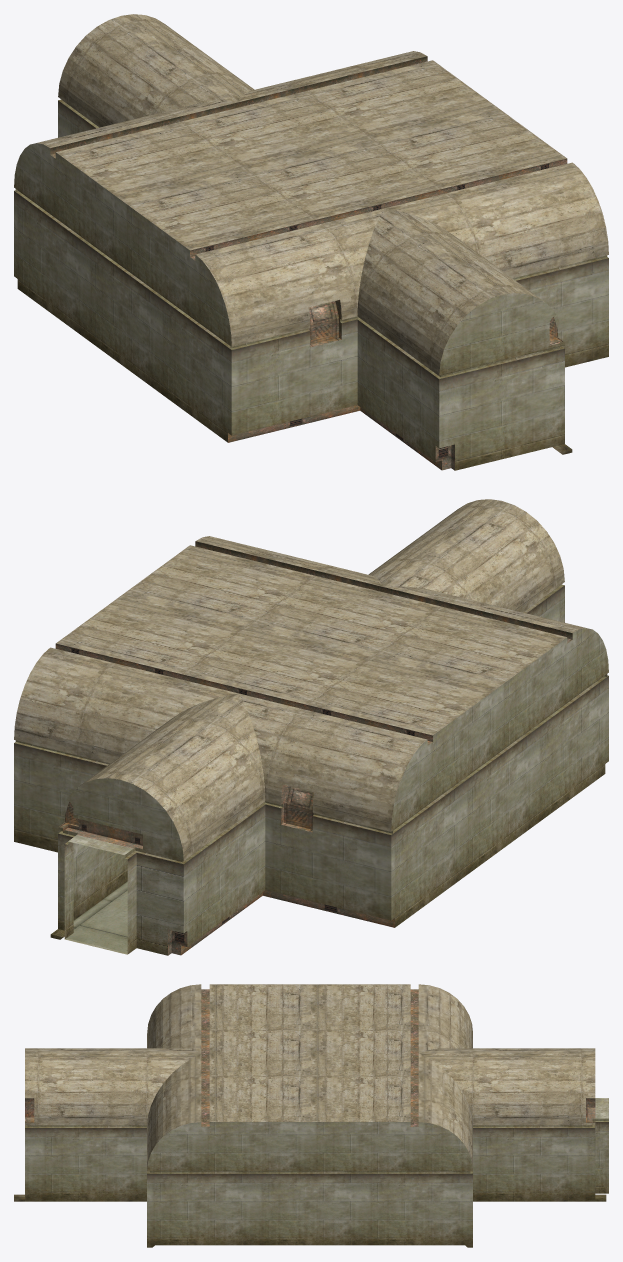
File: poi_all_bunker_allum_mine_r6_smallroom6_mesh_r6.fbx
3 views of the same model, one above another, from view 1: azimuth 30°, elevation 25°; view 2: azimuth 150°, elevation 25°; view 3: azimuth 270°, elevation 25° (orthographic). The views are drawn at different scales.
Visible parts, largest first — view 1: mesh_node; view 2: mesh_node; view 3: mesh_node.
Boxes of the visible parts, bbox=[...] form: mesh_node: bbox=[14, 14, 608, 470]; mesh_node: bbox=[14, 499, 608, 955]; mesh_node: bbox=[14, 984, 608, 1247].
Bounding box in the file's own units: 12 × 5.1 × 21.9.
